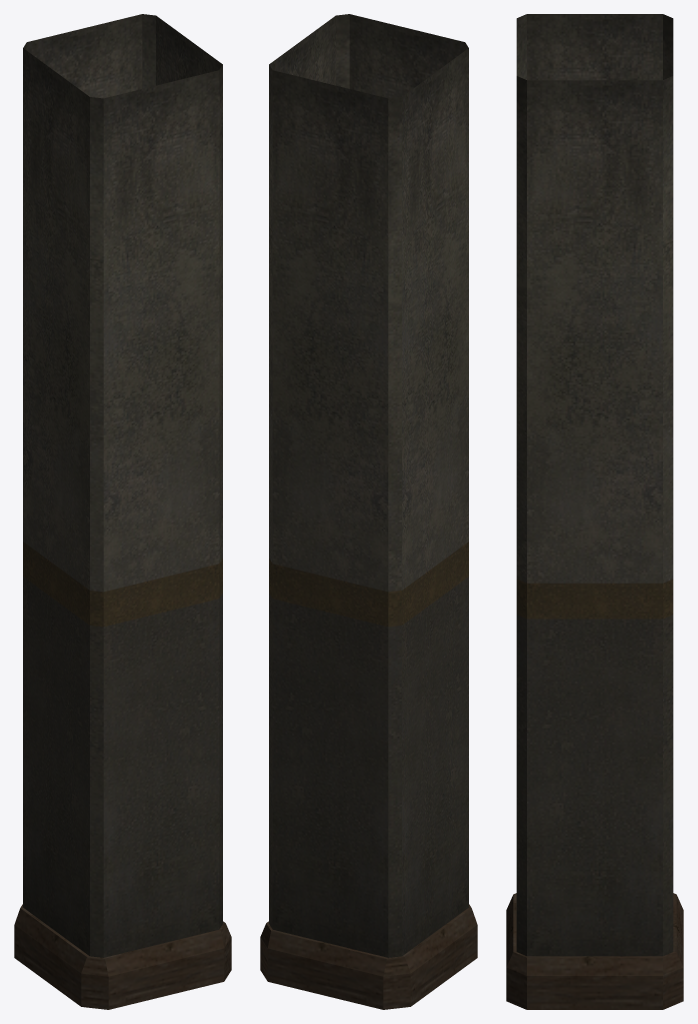
The model's file is pillar_1.obj.
The picture shows the model from 3 angles, left to right: view 1: azimuth 30°, elevation 25°; view 2: azimuth 150°, elevation 25°; view 3: azimuth 270°, elevation 25°; orthographic projection.
Parts seen in each view (by area): view 1: pillar_1; view 2: pillar_1; view 3: pillar_1.
Boxes of the visible parts, x1,y1,x2,y2 form: pillar_1: (14, 14, 231, 1009); pillar_1: (260, 14, 477, 1009); pillar_1: (506, 14, 683, 1009).
Bounding box in the file's own units: 0.52 × 3 × 0.52.
